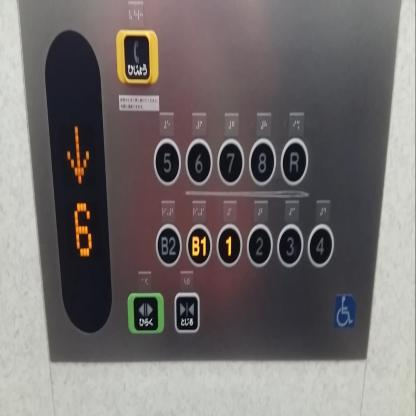1: (215, 218, 243, 271)
2: (245, 220, 274, 274)
3: (274, 219, 304, 272)
4: (305, 220, 335, 271)
5: (151, 136, 183, 188)
6: (183, 136, 214, 190)
7: (214, 133, 246, 190)
8: (248, 131, 278, 188)
B1: (185, 219, 213, 269)
B2: (155, 219, 182, 270)
CH: (334, 293, 355, 328)
R: (277, 131, 310, 191)
call: (114, 23, 159, 88)
close: (172, 286, 202, 339)
led: (44, 29, 113, 333)
open: (125, 286, 166, 337)
